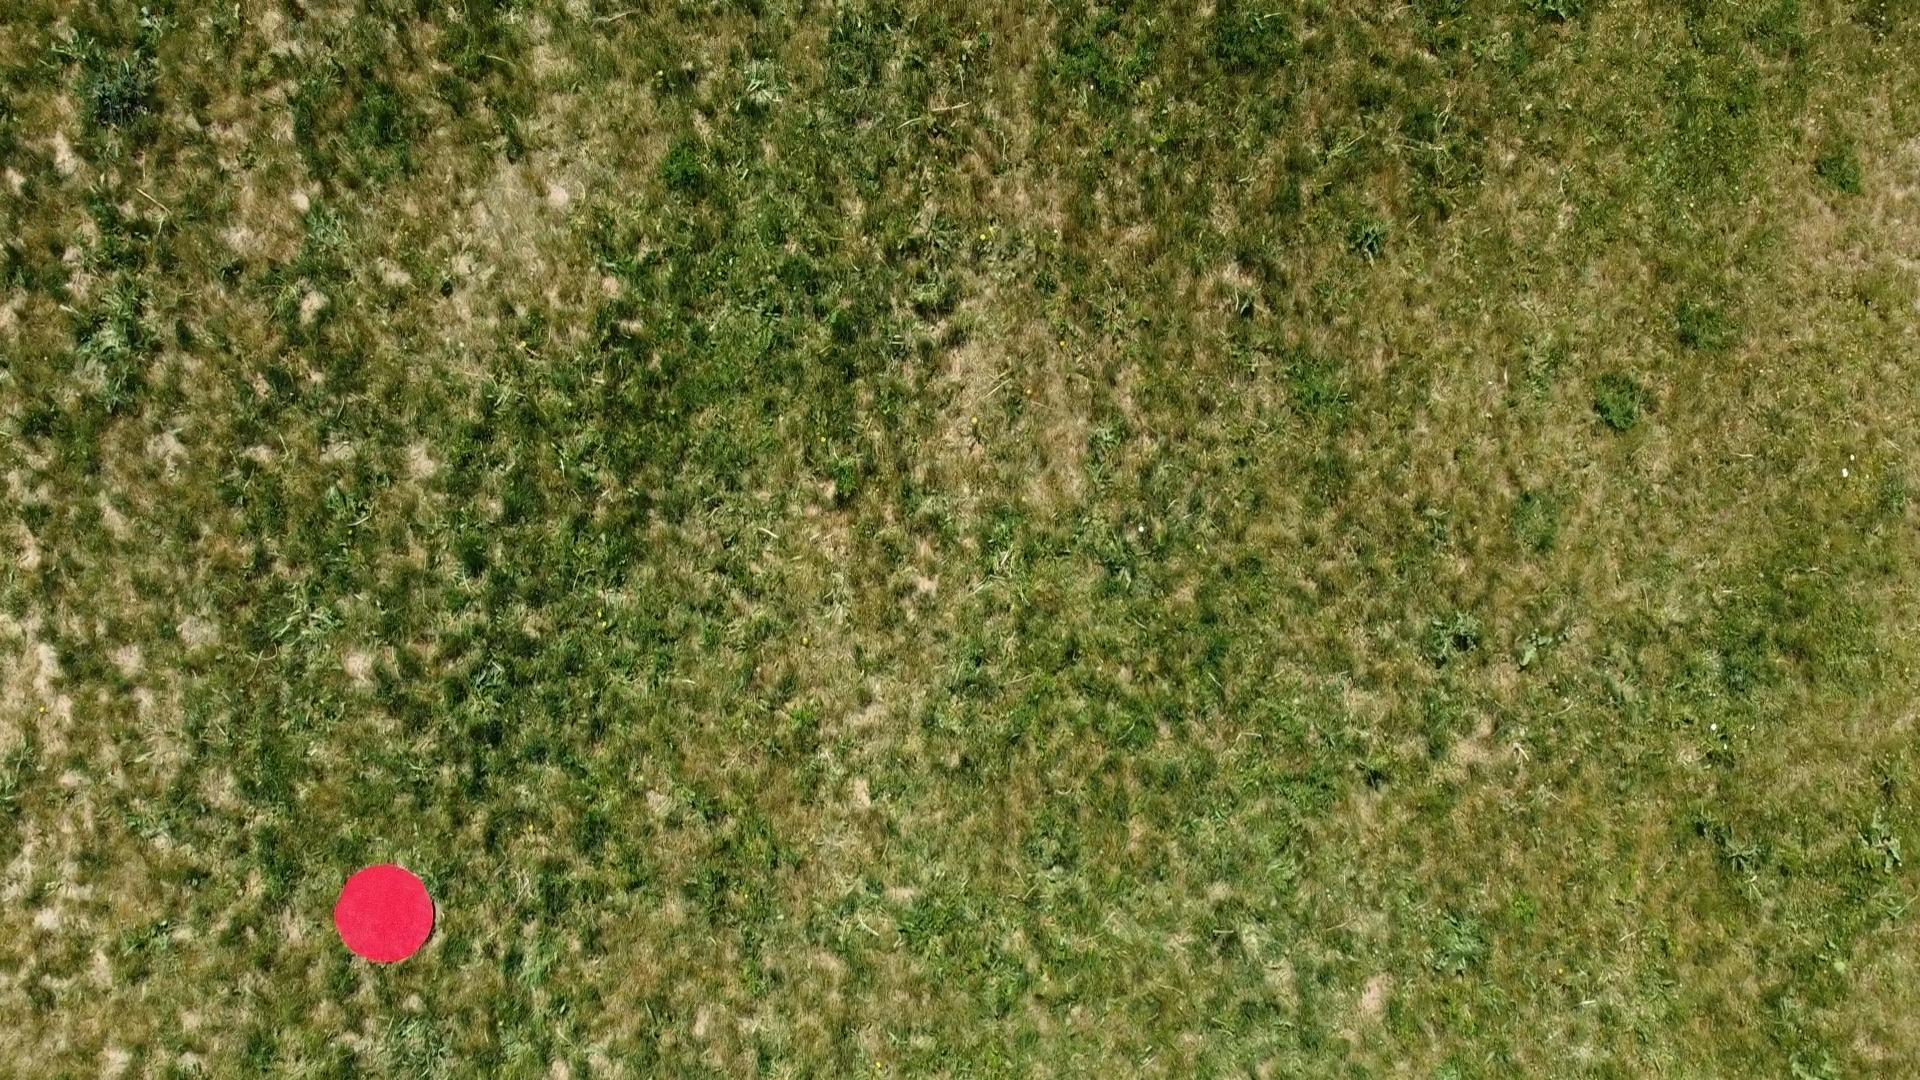Red: (332, 862, 438, 965)
